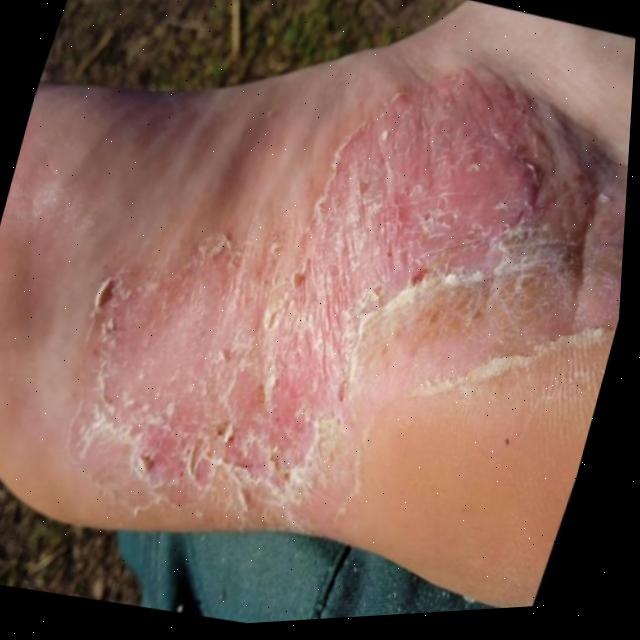Eczema: (26, 7, 637, 601)
